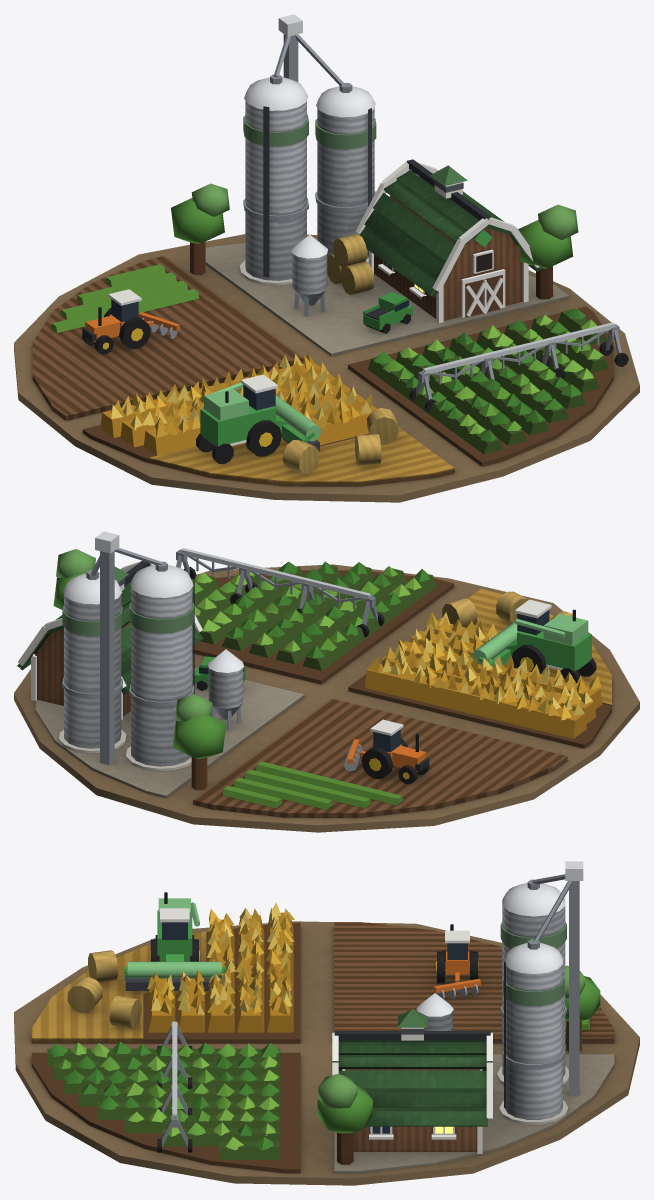
Rendered from farm_modern_green.glb.
3 views of the same model, one above another, from view 1: azimuth 30°, elevation 25°; view 2: azimuth 150°, elevation 25°; view 3: azimuth 270°, elevation 25° (orthographic).
Parts seen in each view (by area): view 1: farm_modern_green; view 2: farm_modern_green; view 3: farm_modern_green.
Part boxes in pixels (box(x1,y1,x2,y2)): farm_modern_green: box(14, 14, 639, 502); farm_modern_green: box(14, 531, 639, 832); farm_modern_green: box(14, 861, 639, 1185).
Size of the model in its own units: 1.36 by 0.585 by 1.4.
Materials: 2 (1 with a texture image).
